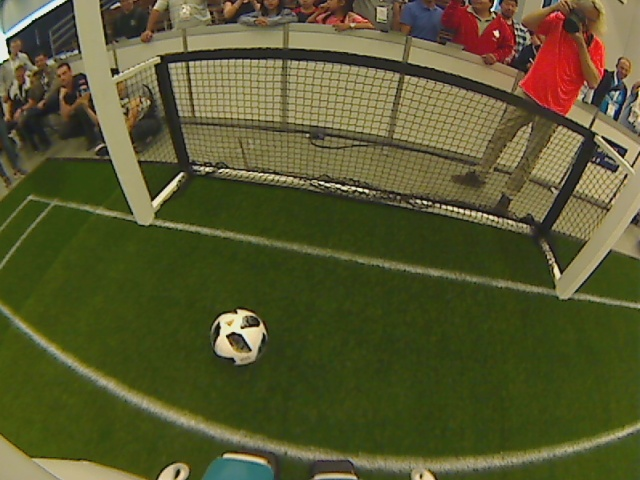ball: (208, 308, 269, 365)
